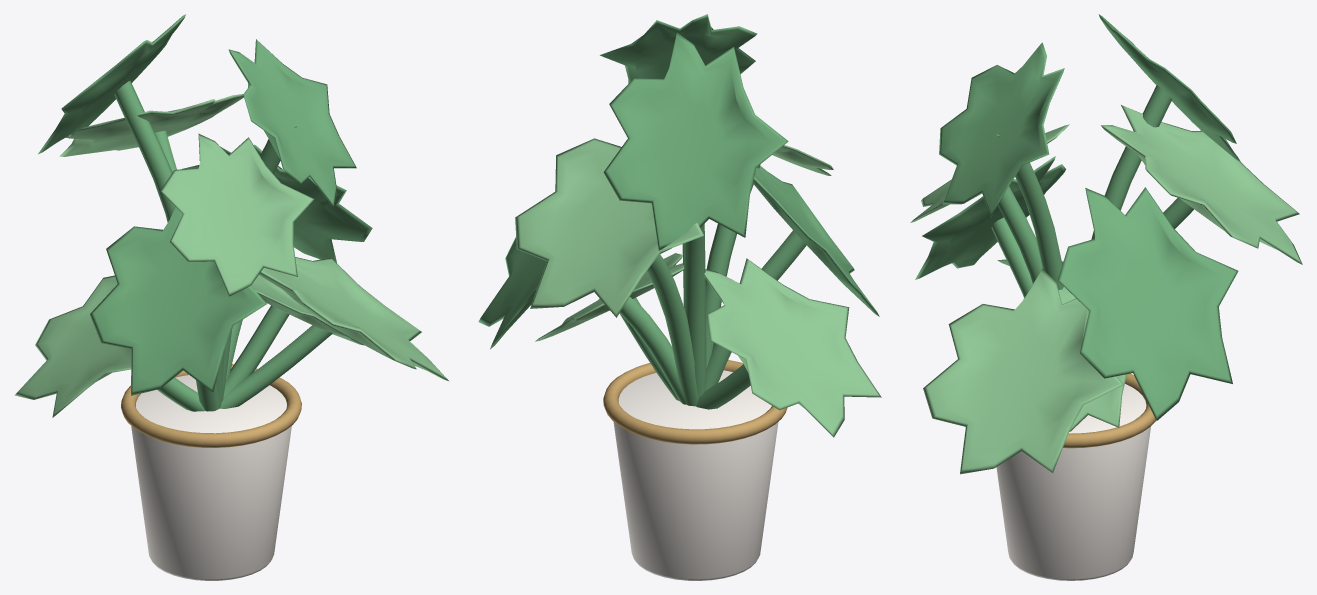
The model's file is furn_plant.glb.
The picture shows the model from 3 angles, left to right: view 1: azimuth 30°, elevation 25°; view 2: azimuth 150°, elevation 25°; view 3: azimuth 270°, elevation 25°; orthographic projection. The views are drawn at different scales.
Visible parts, largest first — view 1: Cone; view 2: Cone; view 3: Cone.
Part boxes in pixels (bbox=[...]): Cone: bbox=[14, 14, 448, 580]; Cone: bbox=[478, 14, 881, 580]; Cone: bbox=[910, 14, 1302, 580].
Size of the model in its own units: 1.03 by 1.4 by 0.9468.
